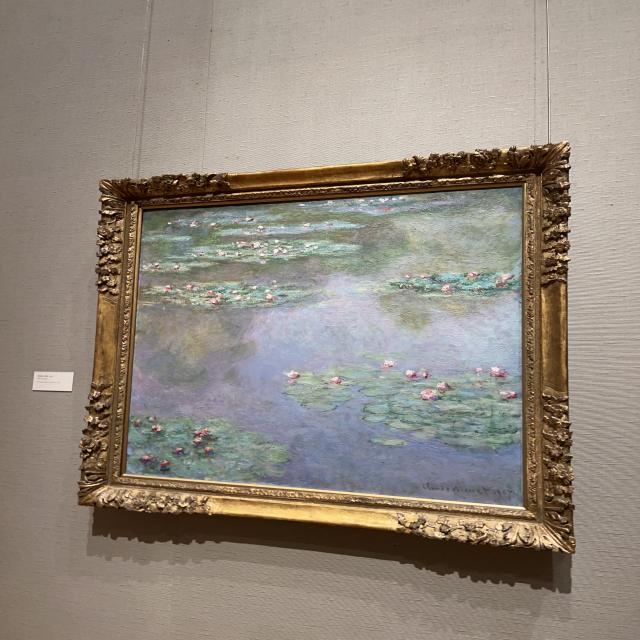lilies: (126, 187, 523, 506)
